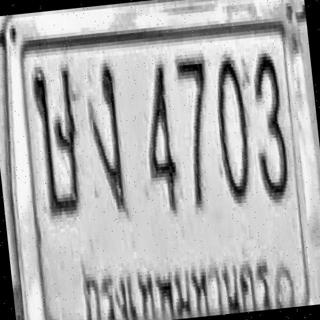A07: (83, 60, 128, 216)
A39: (30, 60, 87, 220)
N00: (210, 51, 255, 206)
N03: (247, 48, 292, 204)
N04: (138, 58, 182, 214)
N07: (174, 53, 220, 212)
P04: (75, 235, 273, 320)
